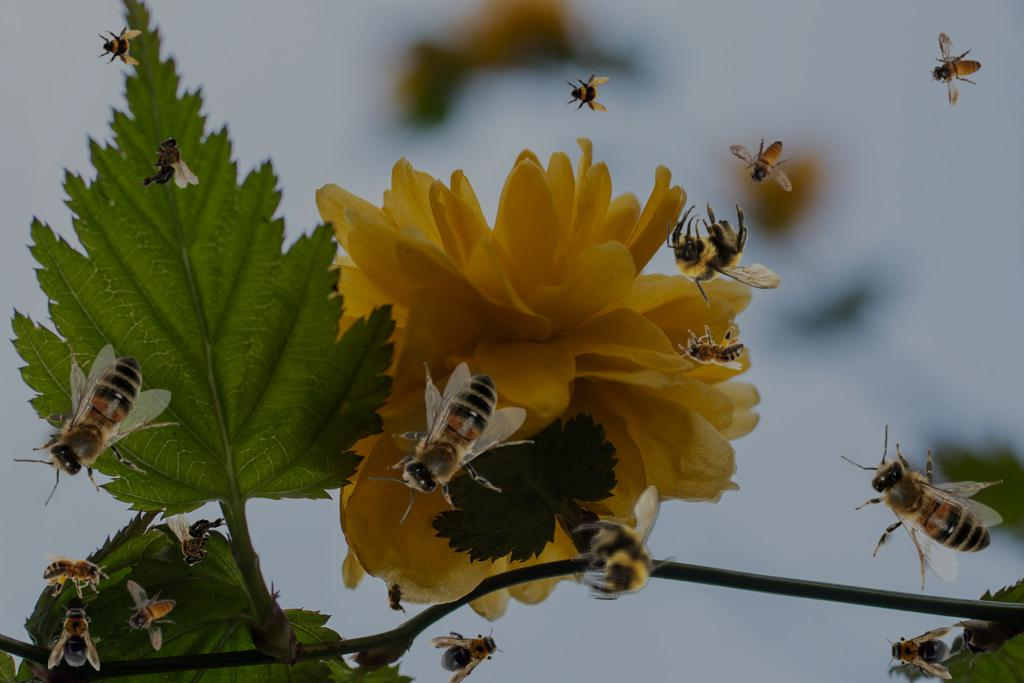Bee: (13, 344, 180, 506), (368, 362, 535, 524), (841, 424, 1003, 591), (571, 485, 678, 600), (667, 201, 782, 308), (727, 121, 807, 208), (426, 614, 510, 683), (922, 31, 988, 112), (133, 134, 200, 192), (126, 580, 176, 651), (886, 627, 954, 679), (48, 603, 100, 671), (166, 514, 228, 567), (43, 553, 109, 598), (678, 325, 744, 370), (566, 70, 610, 114), (98, 23, 142, 67), (385, 577, 407, 617)
